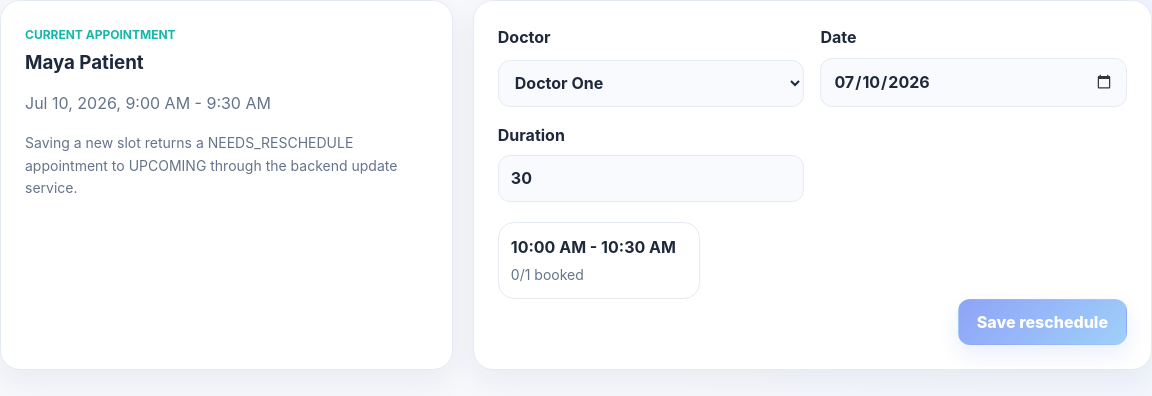
Test: RescheduleAppointmentPanel › clears a selected slot whenever doctor, date, or duration changes
Step 1. Click the button "10:00 AM - 10:30 AM 0/1 booked" → click(599, 260), box [498,222,700,299]
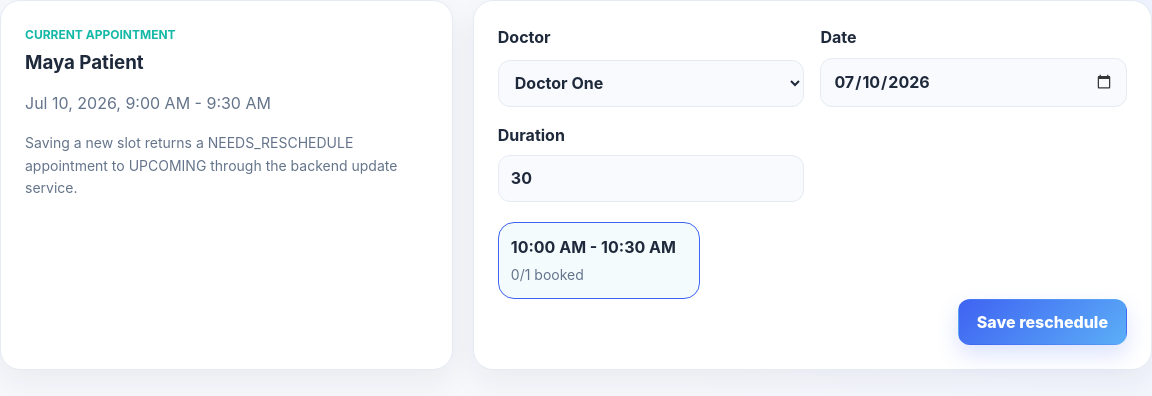
Result: the button "Save reschedule" is enabled at [958,299,1127,346]
Step 2. Select "Doctor Two" in the dropdown labelled "Doctor" → (651, 83), box [498,60,804,107]
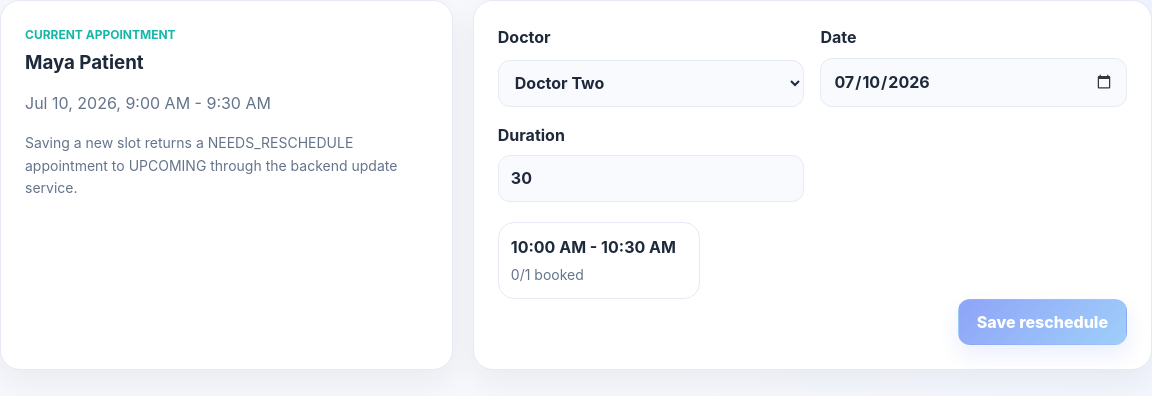
Result: the button "Save reschedule" is disabled at [958,299,1127,346]
Step 3. Click the button "10:00 AM - 10:30 AM 0/1 booked" → click(599, 260), box [498,222,700,299]
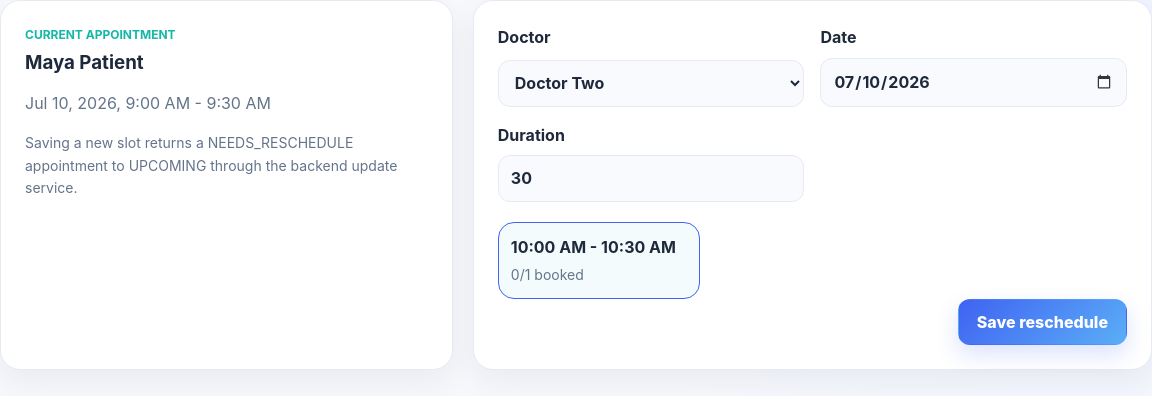
Step 4. Type "2026-07-11" into the date field labelled "Date" → (974, 82), box [820,58,1127,107]
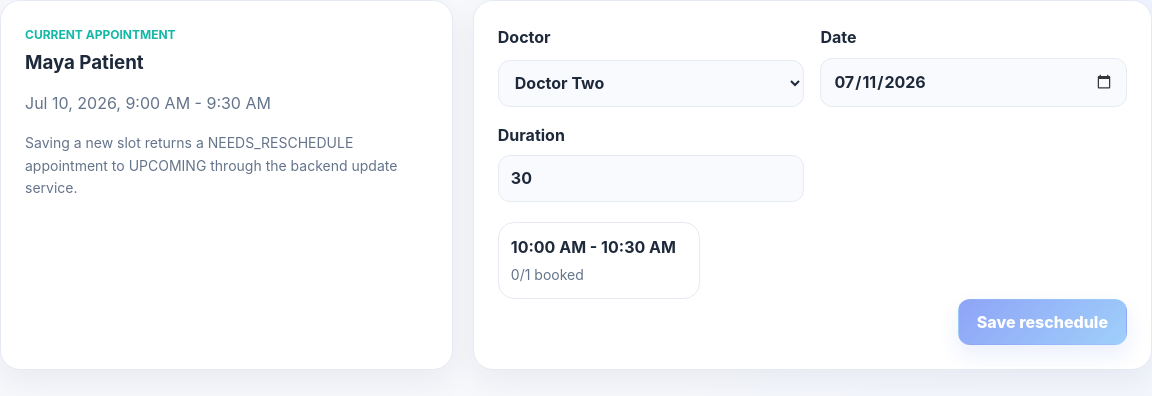
Result: the button "Save reschedule" is disabled at [958,299,1127,346]
Step 5. Click the button "10:00 AM - 10:30 AM 0/1 booked" → click(599, 260), box [498,222,700,299]
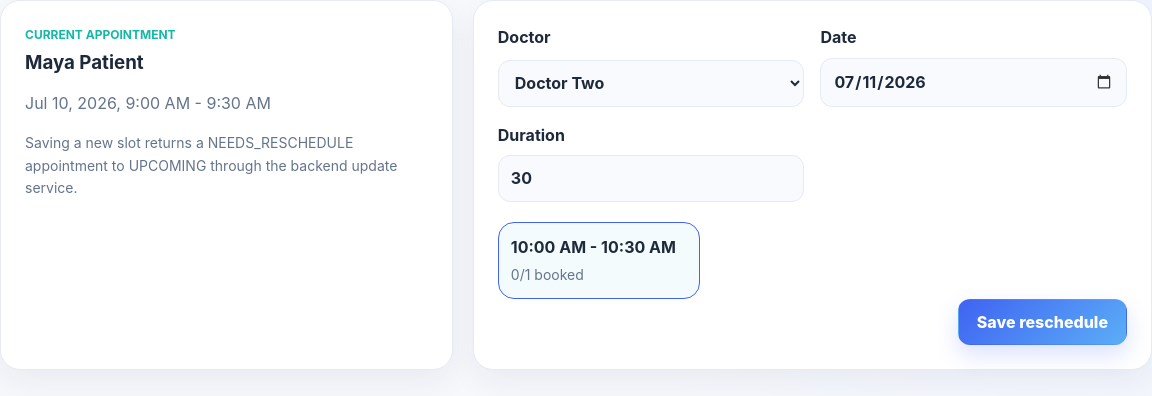
Step 6. Replace the text in the field labelled "Duration" with "60" → (651, 179), box [498,155,804,202]
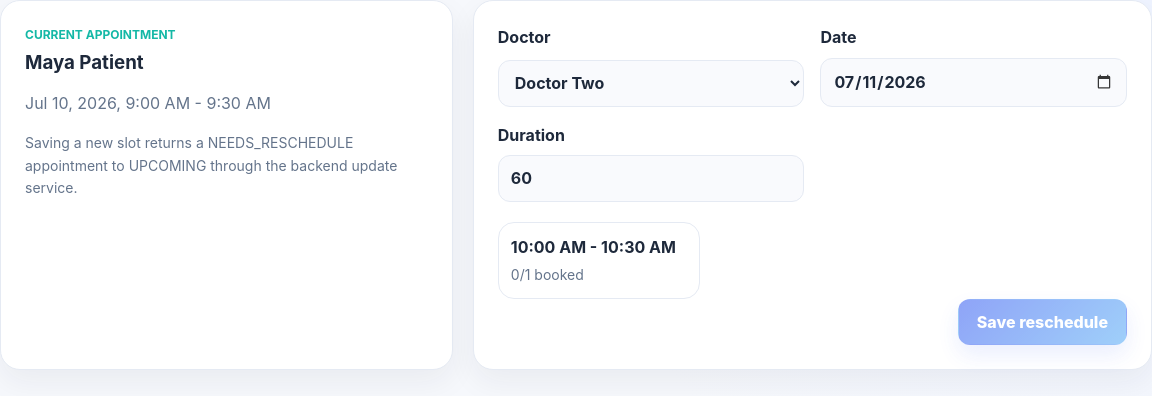
Result: the button "Save reschedule" is disabled at [958,299,1127,346]
